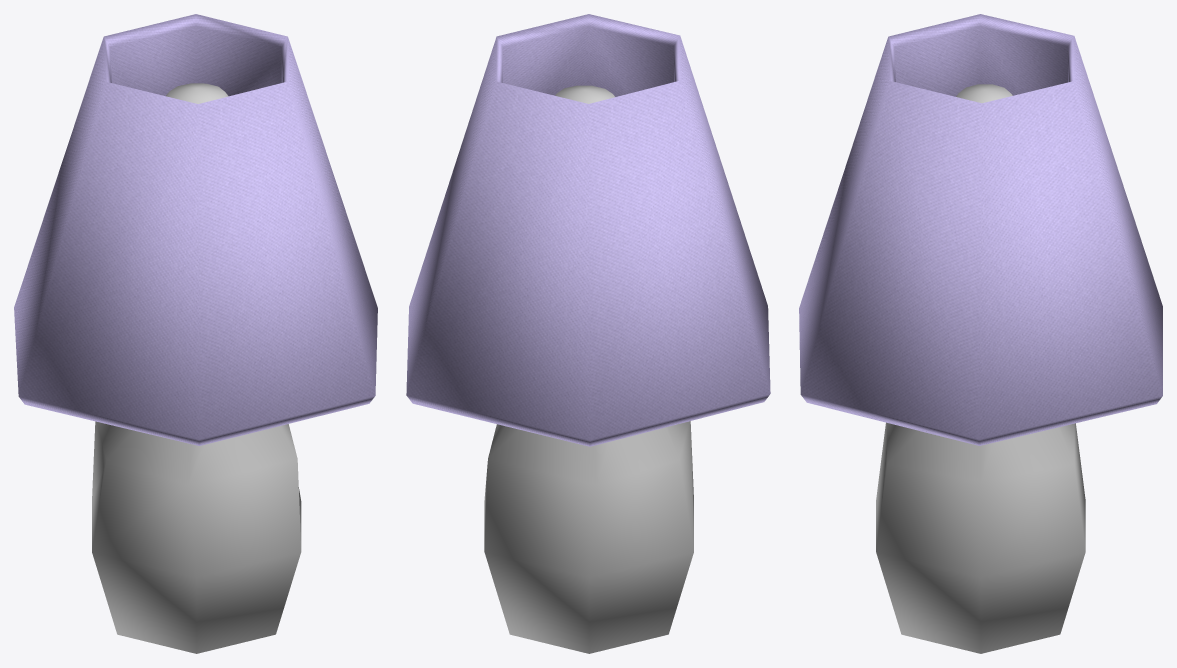
Rendered from Small_Lamp_F.FBX.
The picture shows the model from 3 angles, left to right: view 1: azimuth 30°, elevation 25°; view 2: azimuth 150°, elevation 25°; view 3: azimuth 270°, elevation 25°; orthographic projection.
Parts seen in each view (by area): view 1: Kid's Lamp; view 2: Kid's Lamp; view 3: Kid's Lamp.
Boxes of the visible parts, left/top/right/bottom form: Kid's Lamp: left=14, top=14, right=377, bottom=653; Kid's Lamp: left=406, top=14, right=770, bottom=653; Kid's Lamp: left=799, top=14, right=1162, bottom=653.
Bounding box in the file's own units: 68.11 × 100 × 59.49.
